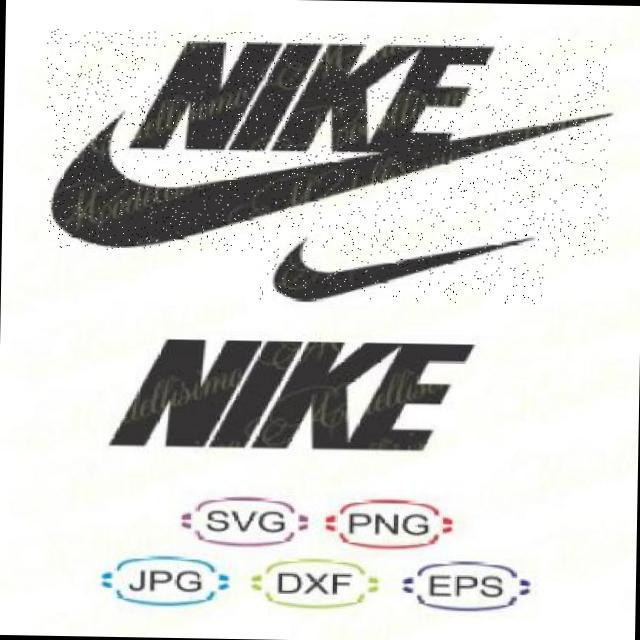Nike: (43, 28, 611, 258), (258, 231, 544, 304)
